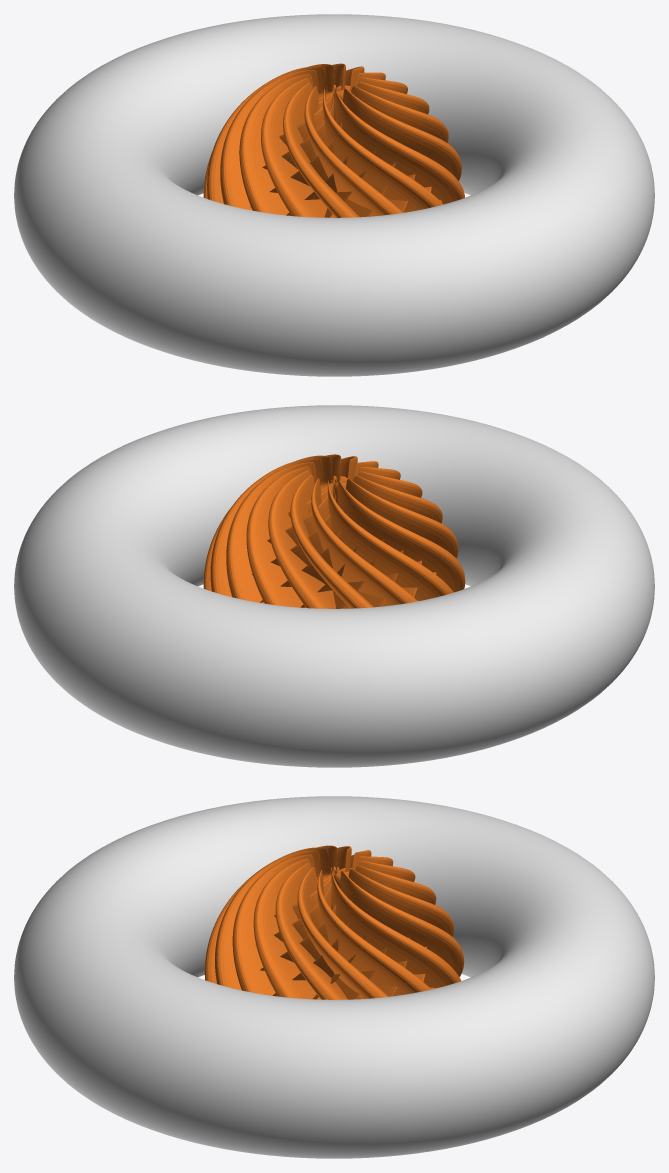
The model's file is dspl.glb.
3 renders of one model, top to bottom at view 1: azimuth 30°, elevation 25°; view 2: azimuth 150°, elevation 25°; view 3: azimuth 270°, elevation 25°, orthographic.
Parts seen in each view (by area): view 1: Torus, Sphere; view 2: Torus, Sphere; view 3: Torus, Sphere.
Boxes of the visible parts, x1,y1,x2,y2 form: Torus: [14, 14, 654, 376]; Sphere: [203, 63, 464, 217]; Torus: [14, 405, 654, 767]; Sphere: [203, 454, 465, 608]; Torus: [14, 796, 654, 1158]; Sphere: [204, 845, 464, 999].
Size of the model in its own units: 4.81 by 1.95 by 4.81.
